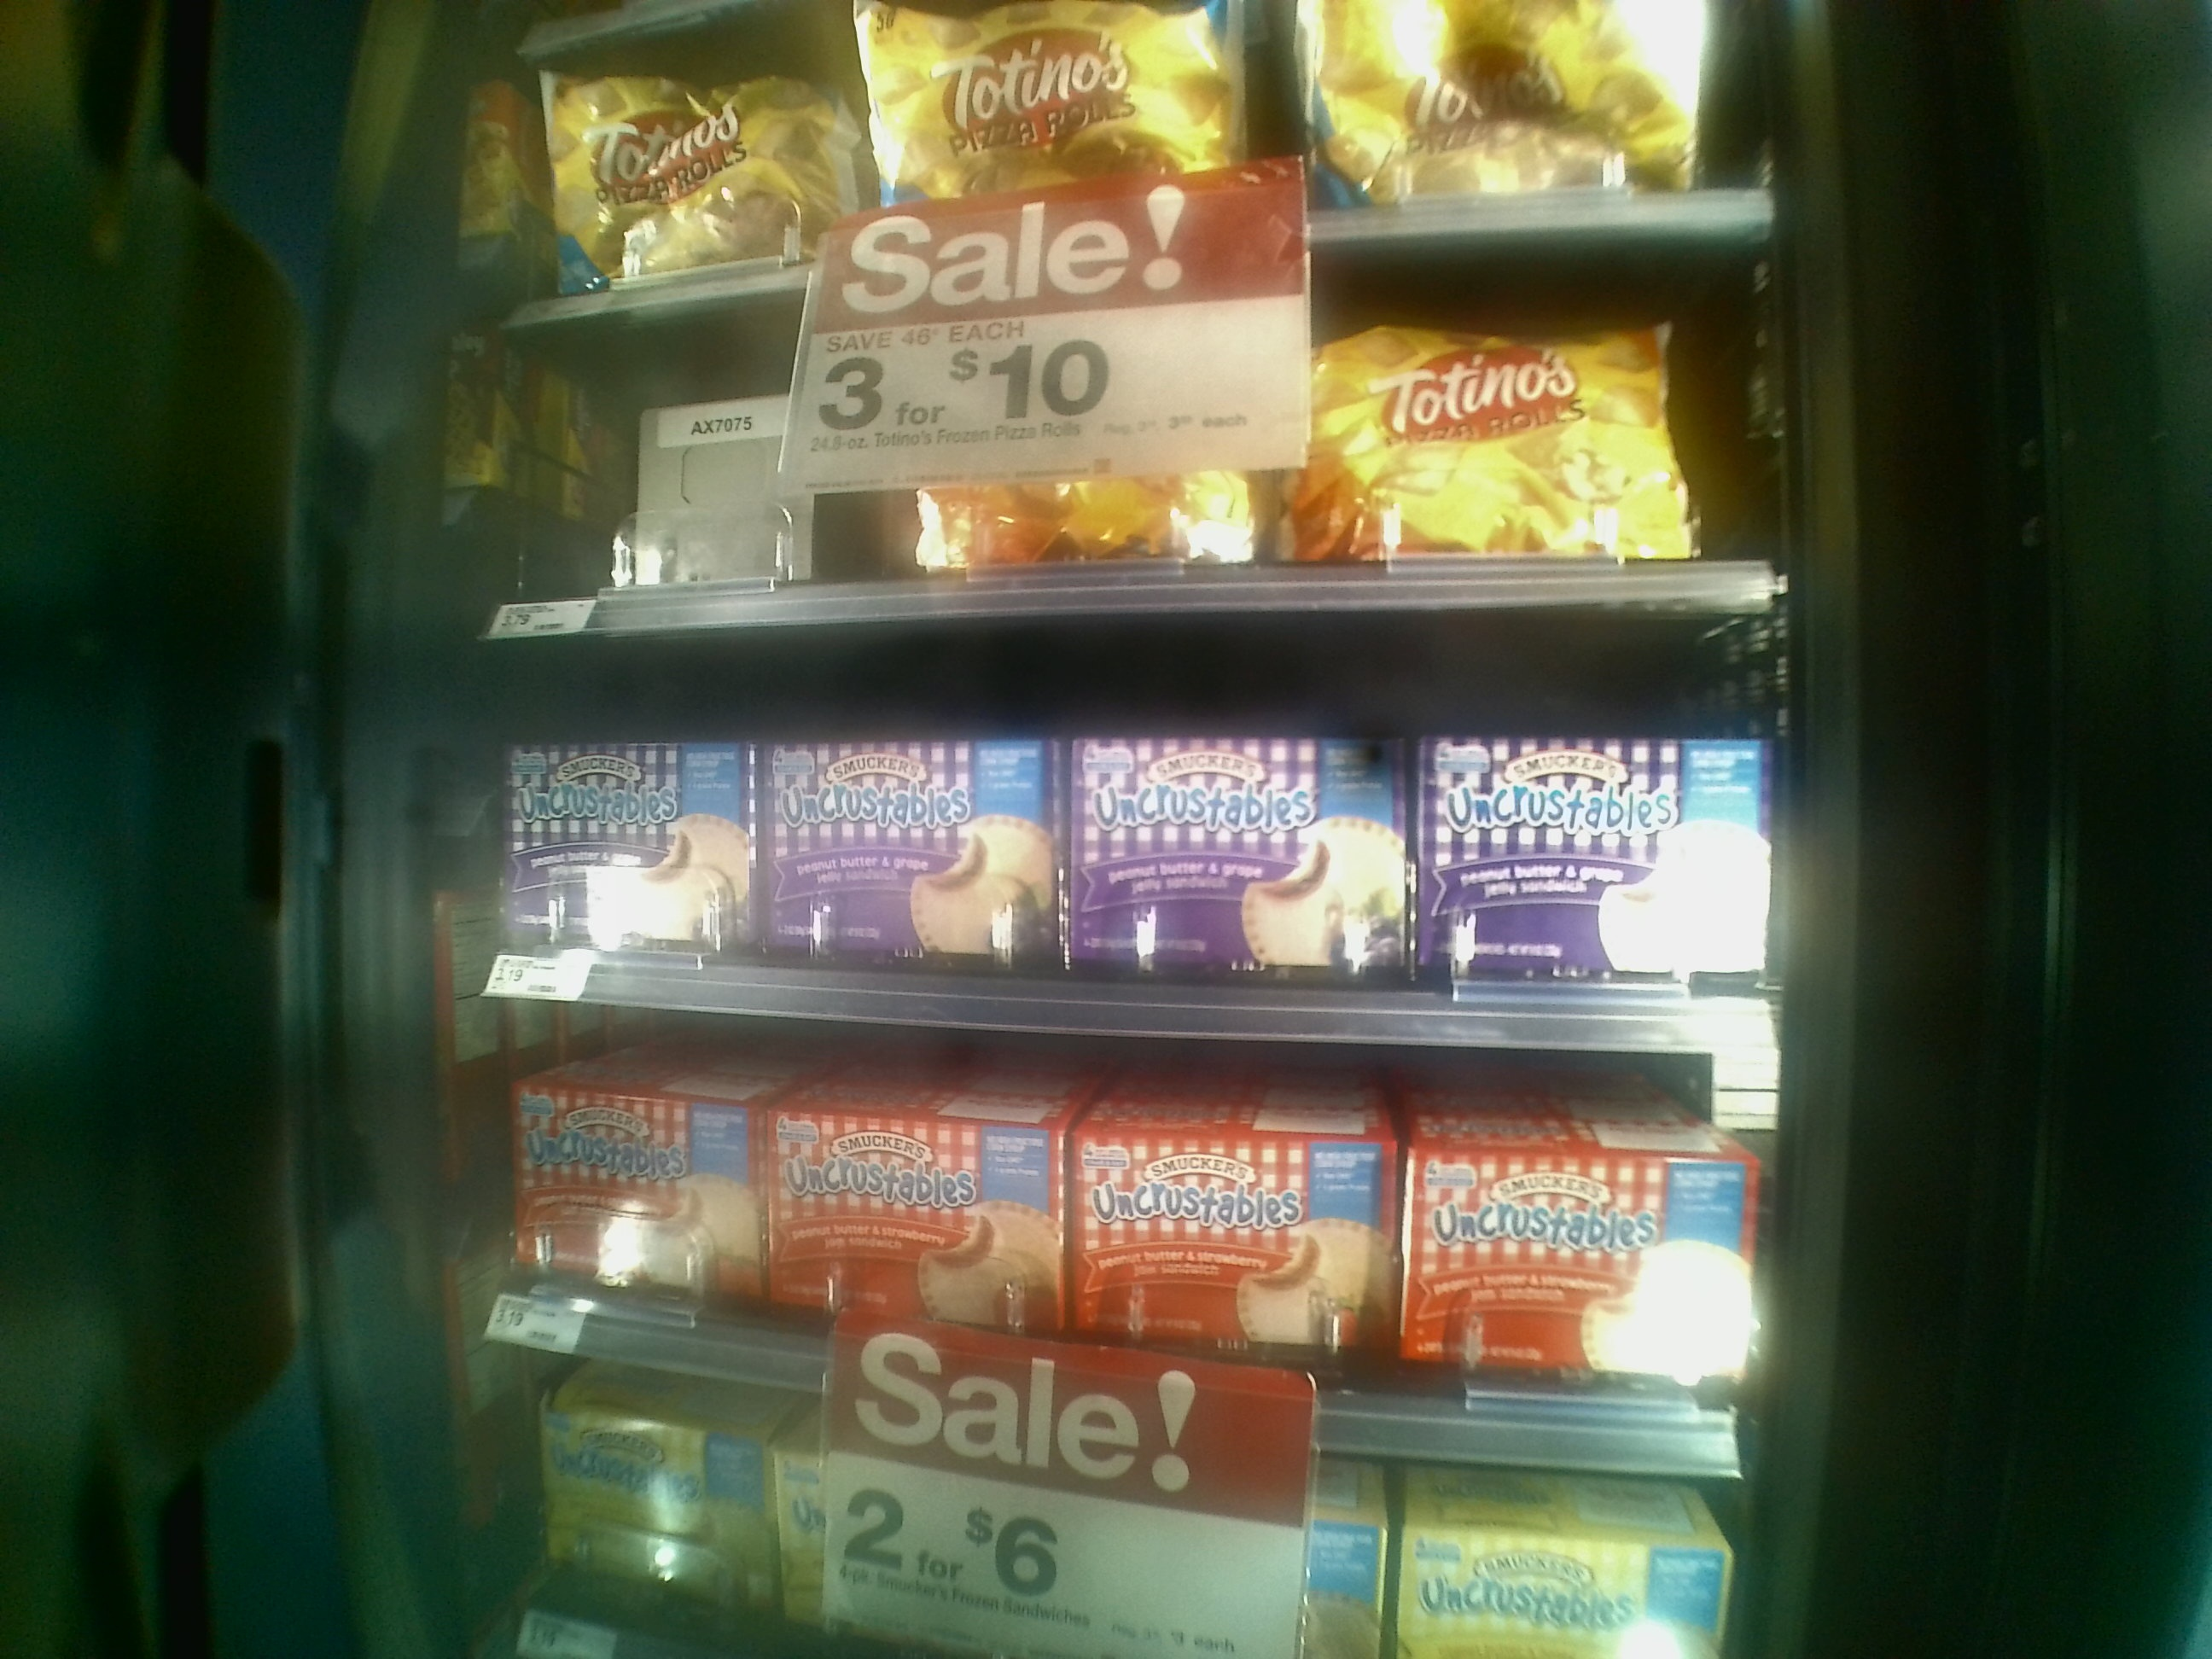shelf: (446, 997, 1770, 1486), (446, 622, 1797, 1060), (488, 301, 1820, 606)
